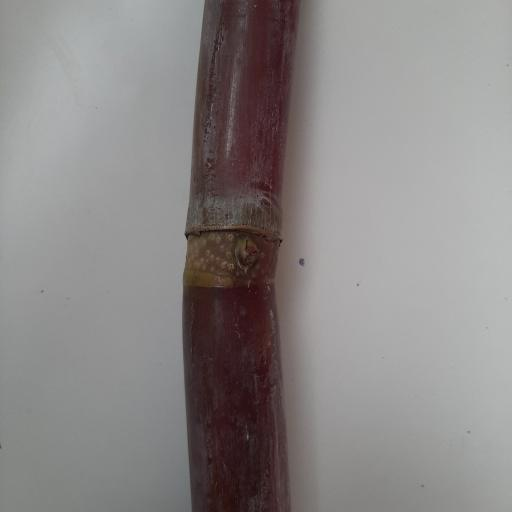Bud: (232, 235, 258, 273)
